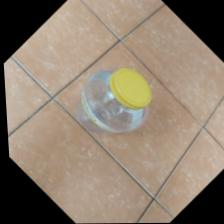plastic: (60, 50, 153, 136)
